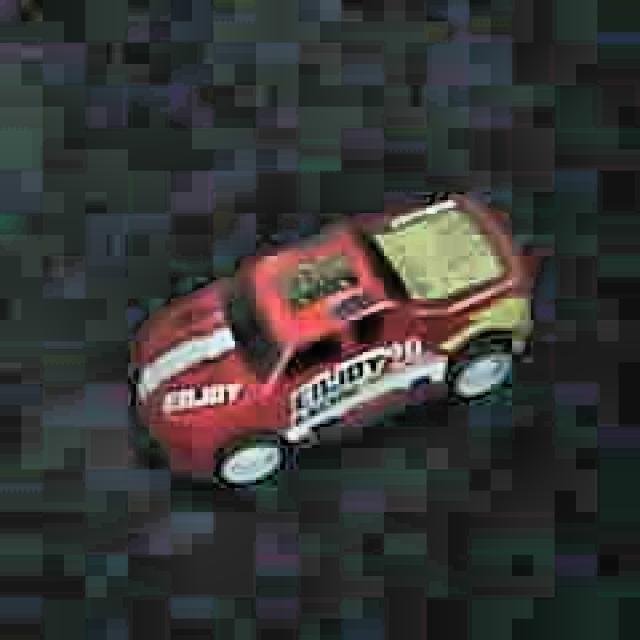car: (124, 188, 534, 500)
